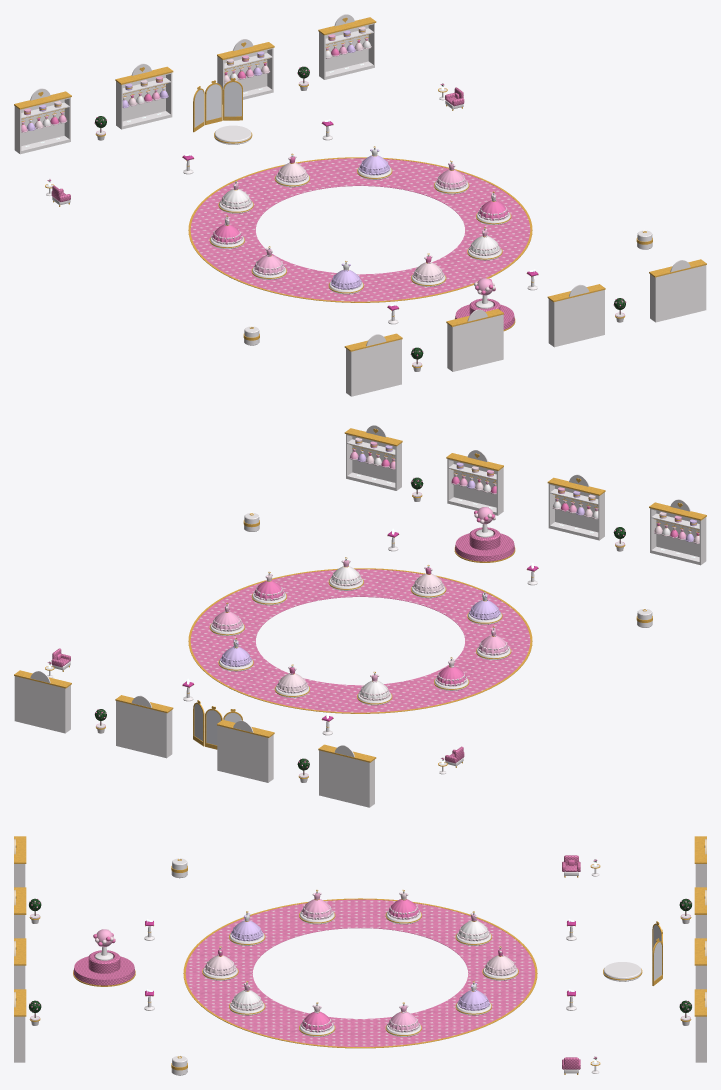
The model's file is citadel_closet.glb.
3 renders of one model, top to bottom at view 1: azimuth 30°, elevation 25°; view 2: azimuth 150°, elevation 25°; view 3: azimuth 270°, elevation 25°, orthographic. The views are drawn at different scales.
Parts seen in each view (by area): view 1: closet_white_wood, closet_carpet, closet_gold, closet_satin_blush, closet_satin_pink, closet_satin_lilac, closet_mirror, closet_satin_rose, closet_tulle, closet_satin_white, closet_tufted; view 2: closet_white_wood, closet_carpet, closet_gold, closet_tufted, closet_satin_blush, closet_satin_pink, closet_satin_lilac, closet_satin_rose, closet_tulle, closet_satin_white, closet_mirror; view 3: closet_carpet, closet_white_wood, closet_gold, closet_tufted, closet_satin_blush, closet_satin_pink, closet_tulle, closet_satin_rose, closet_satin_lilac, closet_satin_white, closet_hedge, closet_mirror.
Part boxes in pixels (x1=…): closet_white_wood: x1=14, y1=14, x2=706, y2=396; closet_carpet: x1=190, y1=158, x2=530, y2=301; closet_gold: x1=14, y1=17, x2=706, y2=367; closet_satin_blush: x1=34, y1=26, x2=500, y2=294; closet_satin_pink: x1=21, y1=34, x2=624, y2=365; closet_satin_lilac: x1=27, y1=30, x2=390, y2=289; closet_mirror: x1=194, y1=82, x2=241, y2=127; closet_satin_rose: x1=37, y1=39, x2=626, y2=355; closet_tulle: x1=21, y1=39, x2=509, y2=282; closet_satin_white: x1=29, y1=41, x2=499, y2=270; closet_tufted: x1=51, y1=87, x2=514, y2=329; closet_white_wood: x1=14, y1=425, x2=706, y2=807; closet_carpet: x1=190, y1=569, x2=530, y2=712; closet_gold: x1=14, y1=428, x2=706, y2=778; closet_tufted: x1=51, y1=527, x2=514, y2=763; closet_satin_blush: x1=49, y1=437, x2=699, y2=760; closet_satin_pink: x1=47, y1=441, x2=686, y2=776; closet_satin_lilac: x1=220, y1=445, x2=696, y2=666; closet_satin_rose: x1=49, y1=452, x2=699, y2=767; closet_tulle: x1=211, y1=448, x2=699, y2=693; closet_satin_white: x1=49, y1=450, x2=691, y2=758; closet_mirror: x1=194, y1=704, x2=241, y2=745; closet_carpet: x1=185, y1=899, x2=535, y2=1046; closet_white_wood: x1=14, y1=839, x2=706, y2=1075; closet_gold: x1=14, y1=836, x2=706, y2=1074; closet_tufted: x1=73, y1=855, x2=580, y2=1069; closet_satin_blush: x1=94, y1=860, x2=596, y2=1058; closet_satin_pink: x1=29, y1=859, x2=692, y2=1058; closet_tulle: x1=204, y1=892, x2=516, y2=1032; closet_satin_rose: x1=29, y1=859, x2=690, y2=1058; closet_satin_lilac: x1=231, y1=913, x2=489, y2=1010; closet_satin_white: x1=232, y1=859, x2=595, y2=1057; closet_hedge: x1=29, y1=861, x2=691, y2=1059; closet_mirror: x1=653, y1=925, x2=661, y2=980.
Size of the model in its own units: 32.12 by 4.2 by 46.
15 materials, 5 textured.
